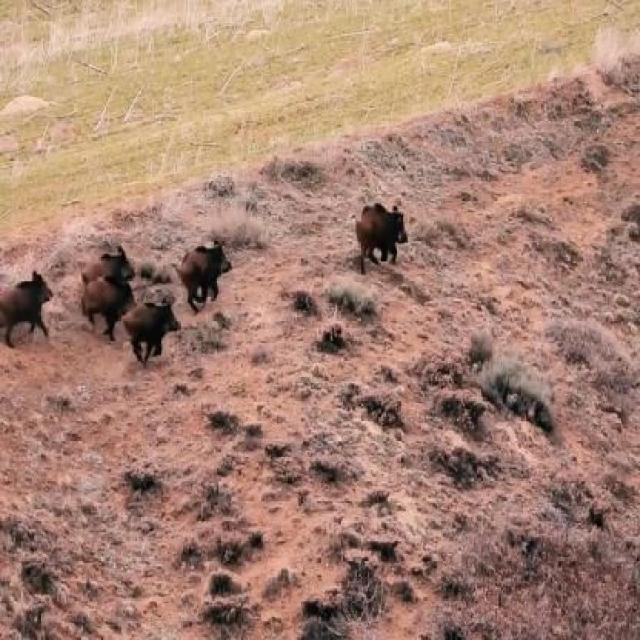Boar: (348, 182, 430, 310), (106, 288, 205, 386), (0, 262, 71, 366), (180, 220, 243, 323), (74, 265, 140, 349)
